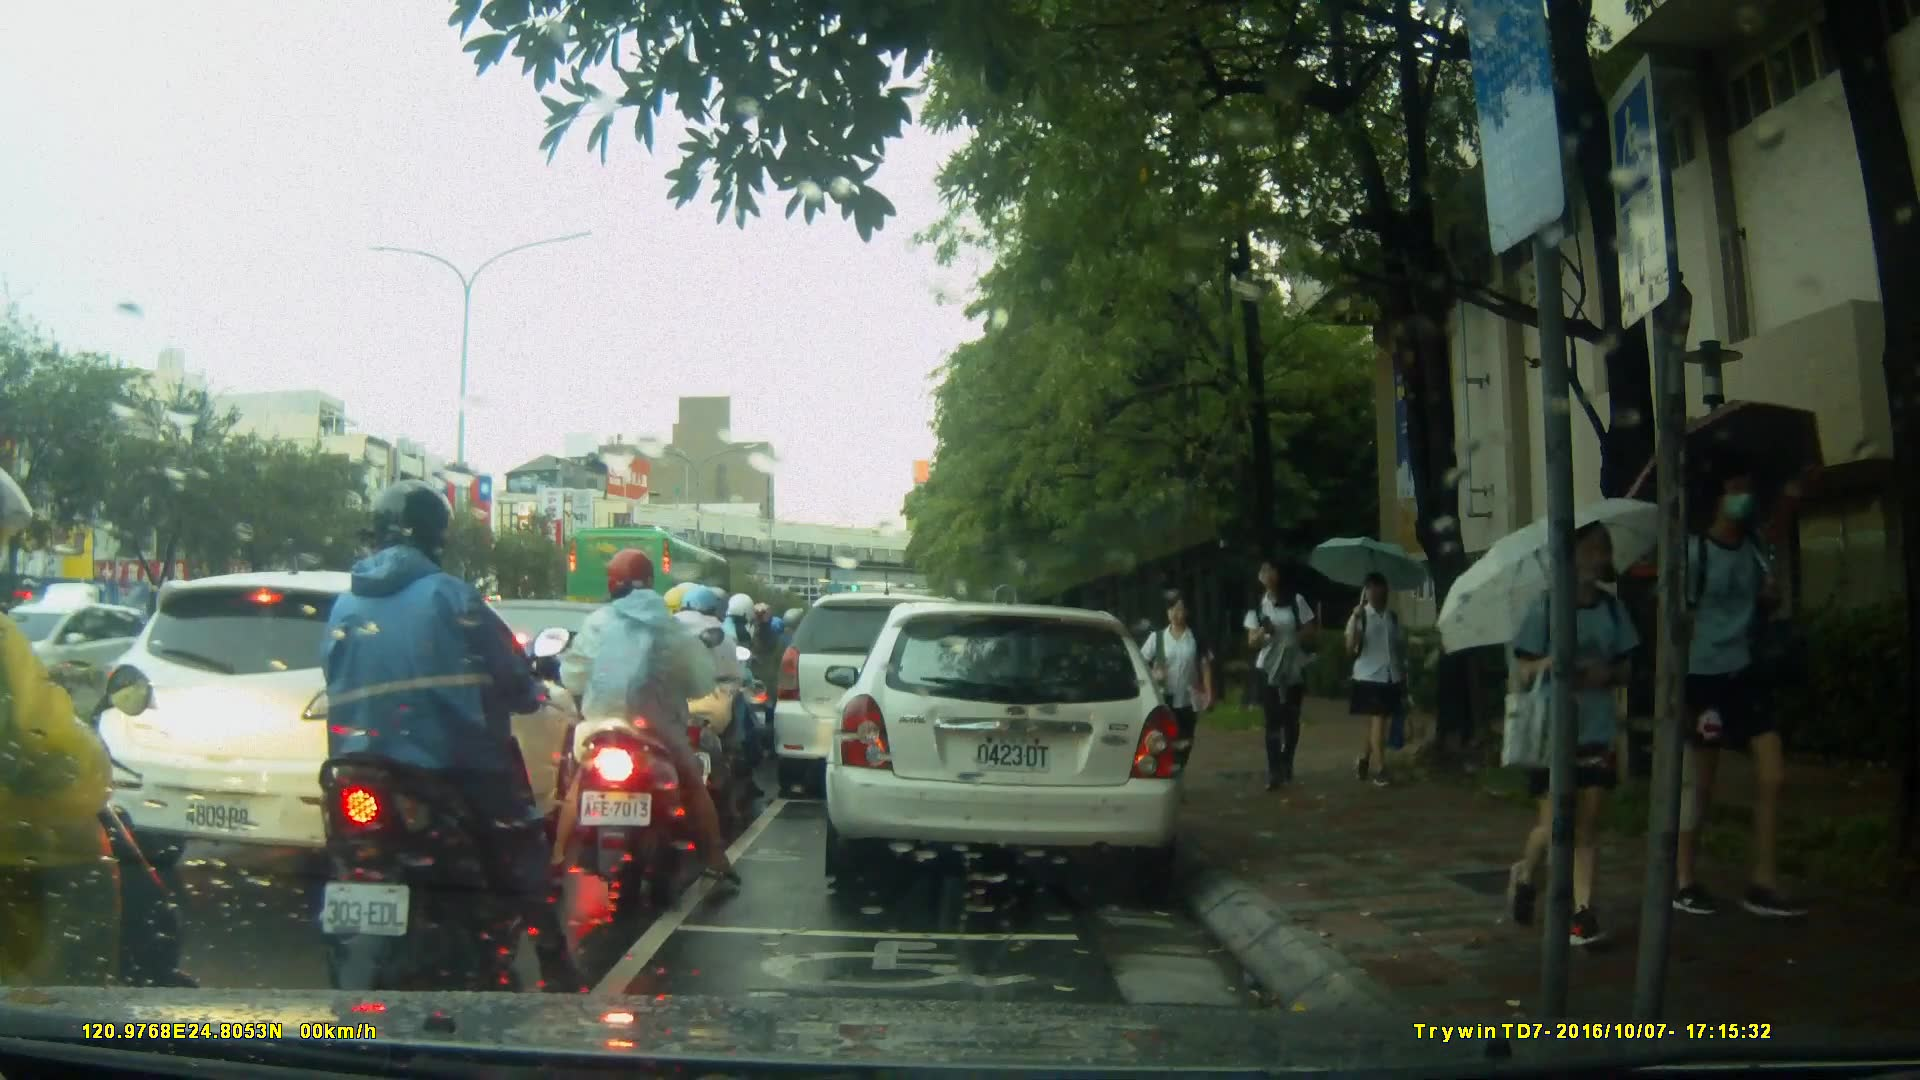pedestrian: (1501, 500, 1657, 957), (1659, 454, 1805, 938), (1240, 557, 1328, 789), (1335, 560, 1422, 786), (1130, 584, 1217, 789)
rider: (317, 478, 577, 1005), (1, 455, 181, 1080), (549, 547, 746, 919), (635, 576, 767, 835), (682, 594, 770, 784)
vehicle: (93, 569, 617, 883), (822, 604, 1187, 883), (774, 595, 995, 802), (578, 528, 753, 654), (19, 608, 154, 703)
